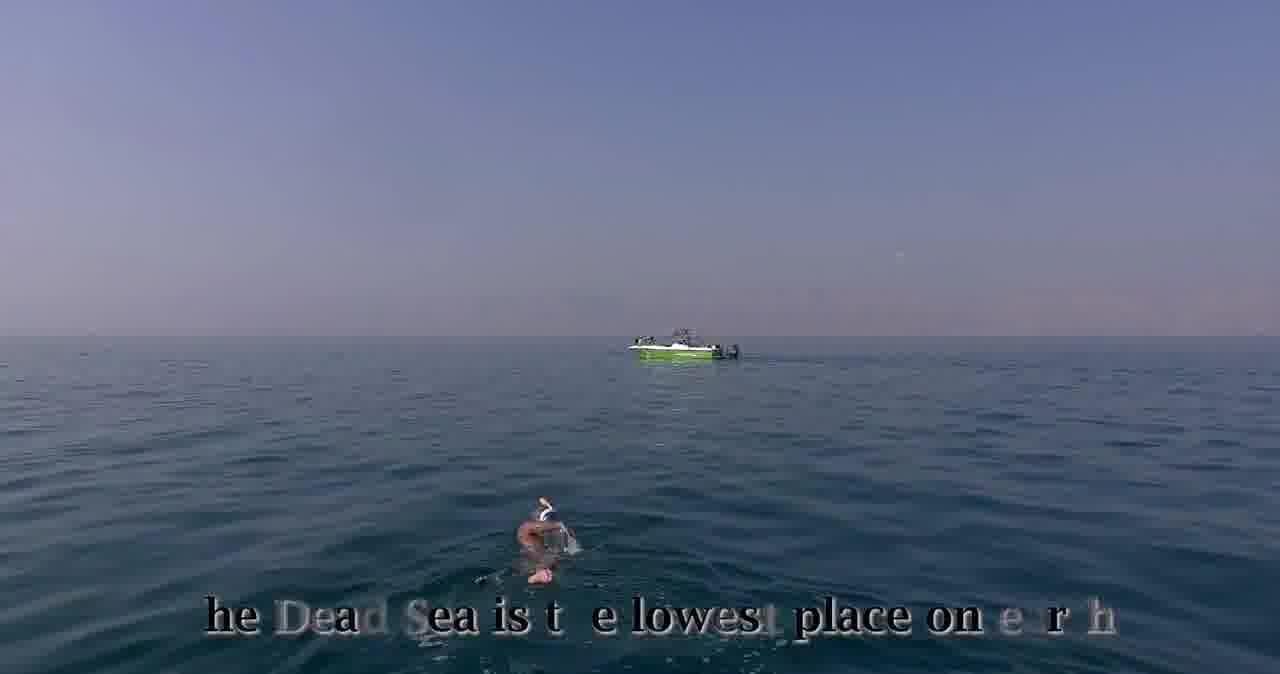human: (507, 492, 584, 594)
